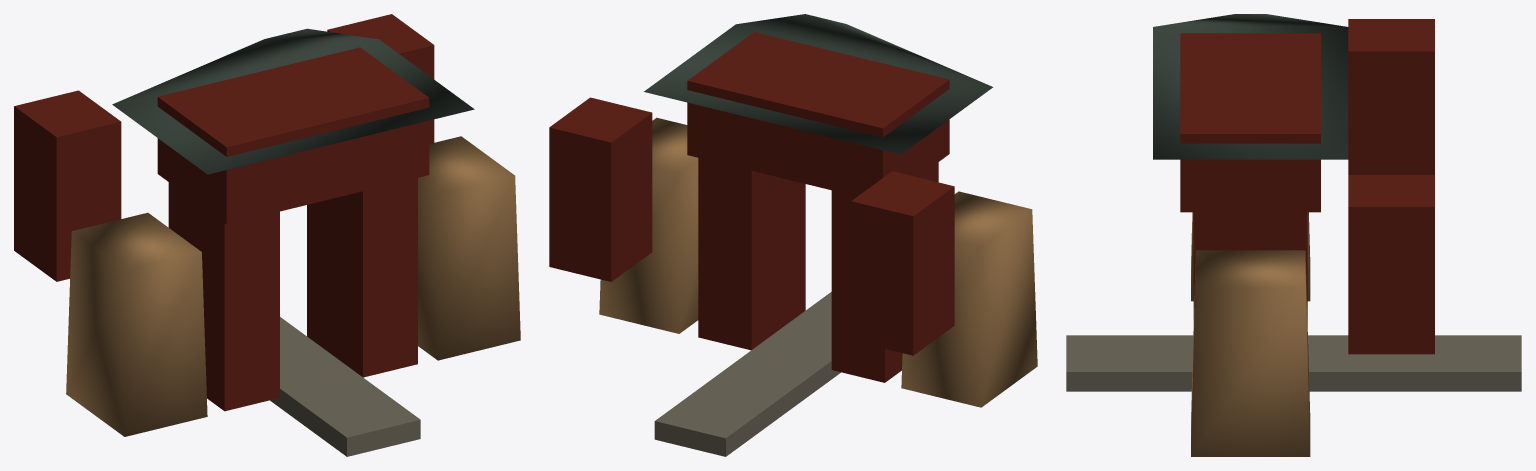
File: R16_HAN_LUOYANG_GATE_SHANGDONGMEN_A.fbx
3 renders of one model, left to right at view 1: azimuth 30°, elevation 25°; view 2: azimuth 150°, elevation 25°; view 3: azimuth 270°, elevation 25°, orthographic. The views are drawn at different scales.
Parts seen in each view (by area): view 1: house, wall_e, wall_w, pier_w, que_e, pier_e, roof, road, que_w; view 2: house, wall_e, pier_w, que_w, que_e, road, roof, wall_w, pier_e; view 3: wall_w, house, road, que_w, que_e, roof, pier_w, wall_e.
Part boxes in pixels (left/top/right/bottom): house: left=157, top=47, right=429, bottom=224; wall_e: left=66, top=212, right=207, bottom=436; wall_w: left=418, top=136, right=520, bottom=360; pier_w: left=307, top=178, right=417, bottom=377; que_e: left=14, top=90, right=121, bottom=281; pier_e: left=168, top=182, right=279, bottom=411; roof: left=112, top=28, right=474, bottom=174; road: left=270, top=317, right=420, bottom=456; que_w: left=327, top=14, right=434, bottom=143; house: left=687, top=32, right=949, bottom=196; wall_e: left=901, top=191, right=1037, bottom=407; pier_w: left=698, top=158, right=805, bottom=350; que_w: left=549, top=97, right=652, bottom=281; que_e: left=851, top=171, right=954, bottom=355; road: left=654, top=292, right=840, bottom=456; roof: left=644, top=14, right=993, bottom=154; wall_w: left=599, top=117, right=698, bottom=333; pier_e: left=831, top=162, right=938, bottom=382; wall_w: left=1191, top=250, right=1310, bottom=456; house: left=1180, top=33, right=1320, bottom=212; road: left=1066, top=335, right=1521, bottom=391; que_w: left=1348, top=175, right=1434, bottom=354; que_e: left=1348, top=19, right=1434, bottom=174; roof: left=1153, top=14, right=1348, bottom=159; pier_w: left=1193, top=212, right=1307, bottom=319; wall_e: left=1191, top=212, right=1310, bottom=301.
Size of the model in its own units: 86 by 71 by 84.
